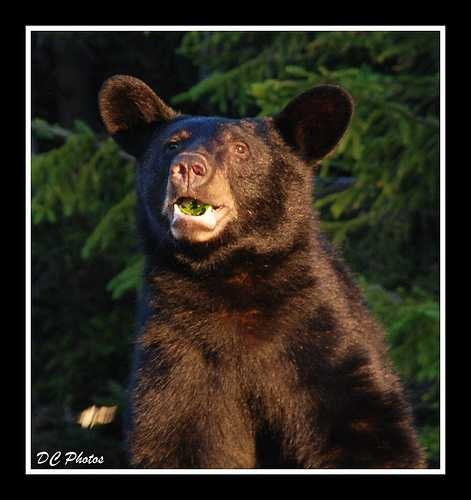bear: (145, 121, 273, 250), (86, 61, 214, 190), (247, 62, 375, 191)
